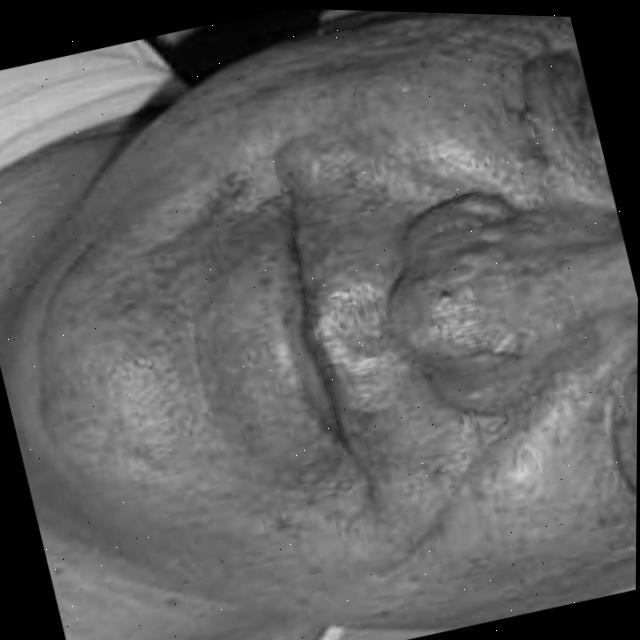Rosacea: (85, 31, 640, 640)
